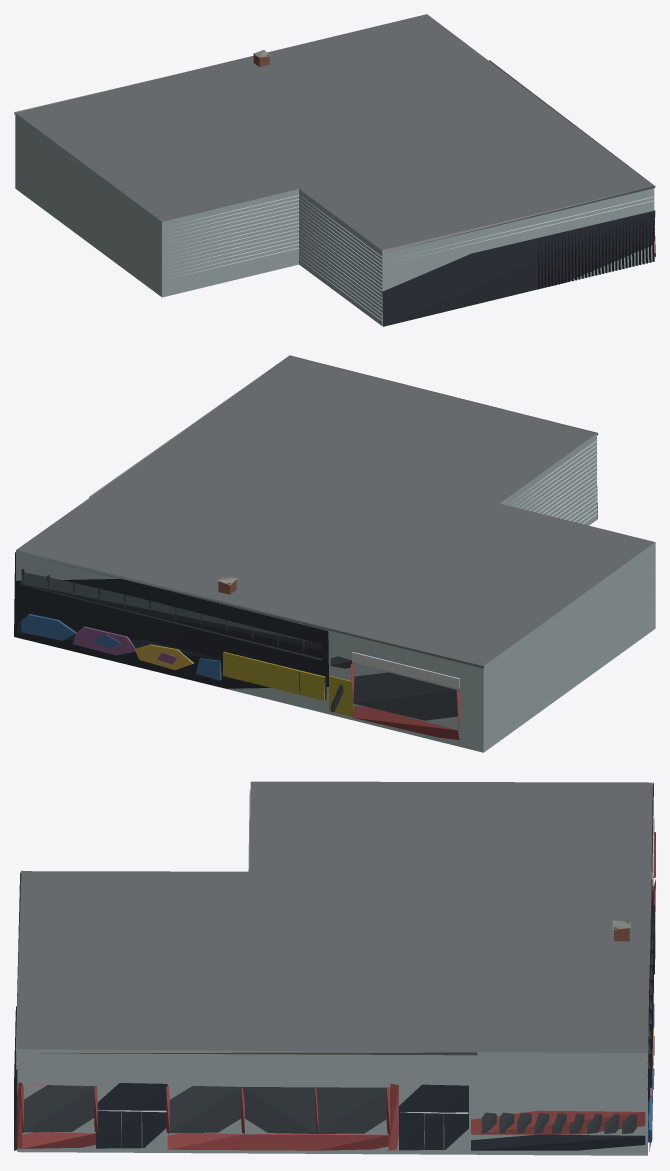
Rendered from lofi.lod1.glb.
The picture shows the model from 3 angles, top to bottom: view 1: azimuth 30°, elevation 25°; view 2: azimuth 150°, elevation 25°; view 3: azimuth 270°, elevation 25°; orthographic projection. The views are drawn at different scales.
Visible parts, largest first — view 1: lofi; view 2: lofi; view 3: lofi.
Boxes of the visible parts, x1,y1,x2,y2 form: lofi: (14,14,655,326); lofi: (14,355,655,752); lofi: (14,781,655,1155).
Bounding box in the file's own units: 36.86 × 7.32 × 36.64.
